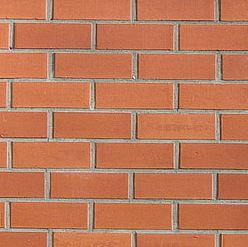brick: (52, 50, 134, 79), (135, 110, 217, 139), (95, 141, 176, 170), (137, 51, 217, 80), (11, 79, 92, 107), (50, 111, 134, 138), (13, 22, 93, 50), (95, 81, 175, 108), (176, 81, 248, 111), (133, 171, 213, 198), (12, 140, 91, 167), (49, 172, 130, 198), (178, 22, 247, 52), (10, 202, 89, 228), (179, 141, 248, 170), (95, 24, 175, 49), (177, 202, 248, 230), (94, 203, 174, 227), (53, 1, 134, 21), (136, 1, 216, 20), (1, 49, 49, 79), (1, 110, 50, 138), (51, 232, 133, 247), (1, 171, 45, 197), (135, 232, 214, 245), (1, 1, 48, 21), (216, 173, 248, 201), (219, 52, 248, 81), (218, 112, 248, 138), (1, 232, 47, 246), (218, 1, 248, 21), (220, 233, 248, 246), (1, 140, 8, 169), (1, 80, 8, 107)
